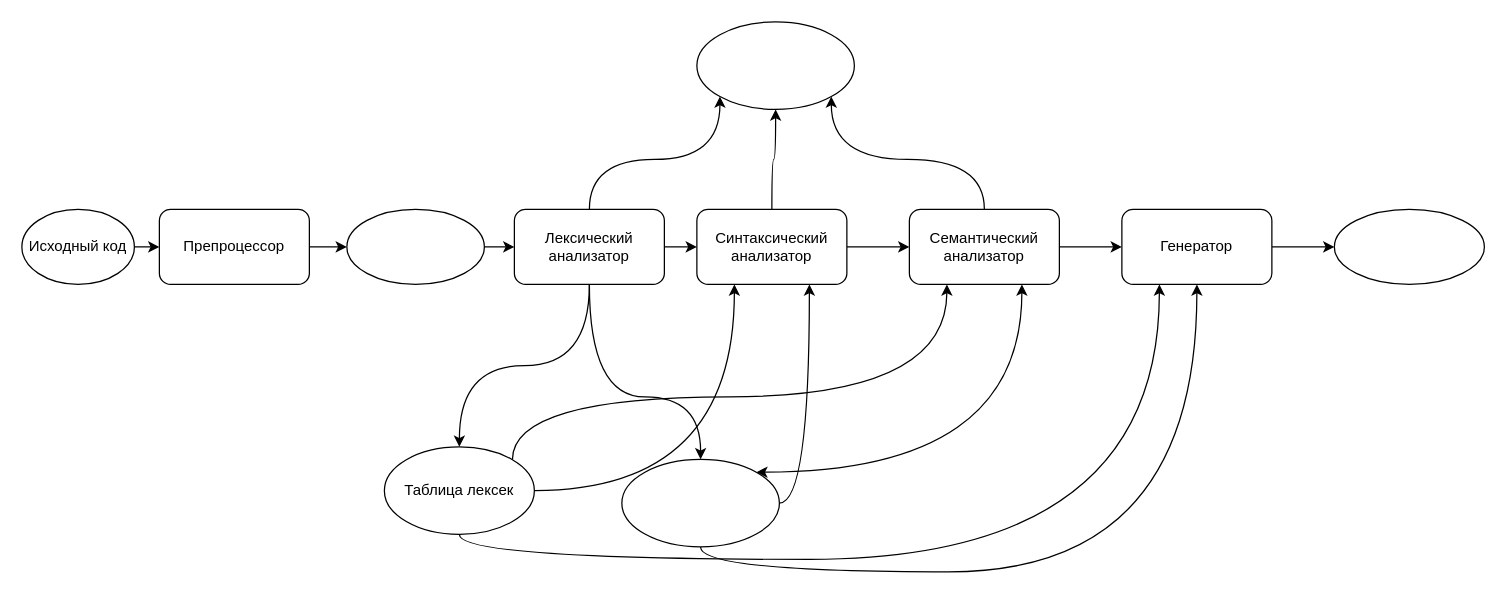
The diagram is 1506 pixels wide and 594 high, and some of its shapes have lost their labels. Each missing label, with the box of its shape:
Исходный код на языке Assembler: (1333, 208, 1484, 284)
Обработанный исходный код: (346, 208, 484, 284)
Протокол: (696, 21, 854, 109)
Таблица индентификаторов: (621, 458, 779, 547)
